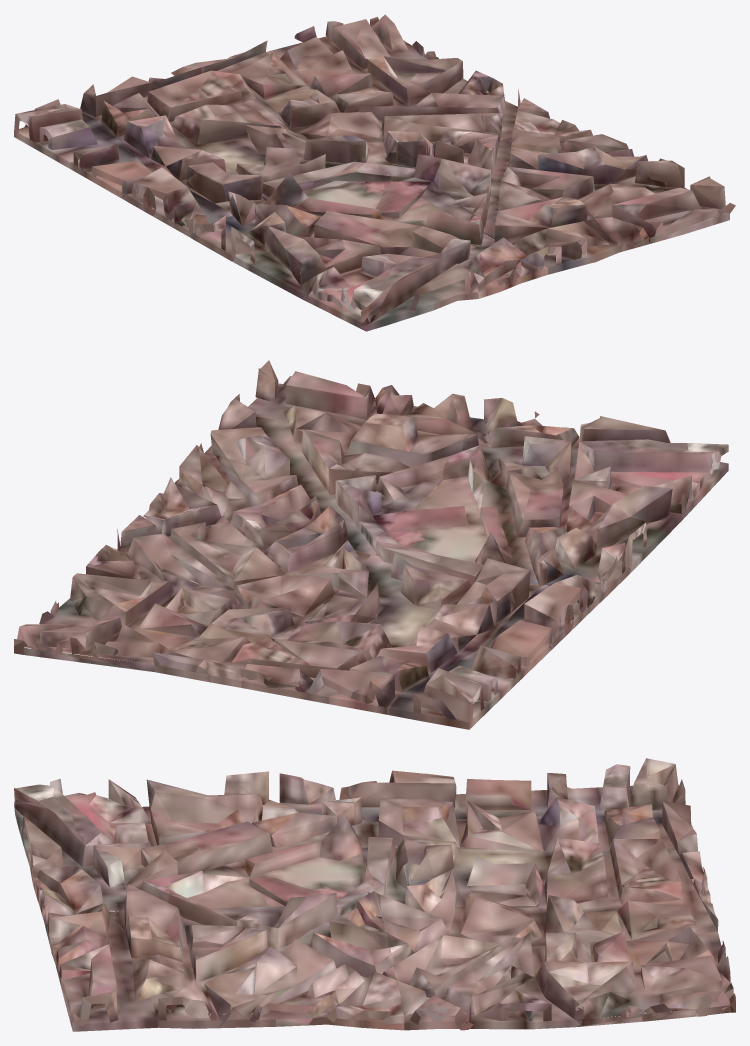
3 views of the same model, one above another, from view 1: azimuth 30°, elevation 25°; view 2: azimuth 150°, elevation 25°; view 3: azimuth 270°, elevation 25° (orthographic). The views are drawn at different scales.
Parts seen in each view (by area): view 1: Mesh_0; view 2: Mesh_0; view 3: Mesh_0.
Boxes of the visible parts, x1=… form: Mesh_0: x1=14, y1=14, x2=735, y2=331; Mesh_0: x1=14, y1=360, x2=728, y2=729; Mesh_0: x1=14, y1=758, x2=735, y2=1031.
Size of the model in its own units: 540 by 61.71 by 660.
Materials: 2 (2 with a texture image).
